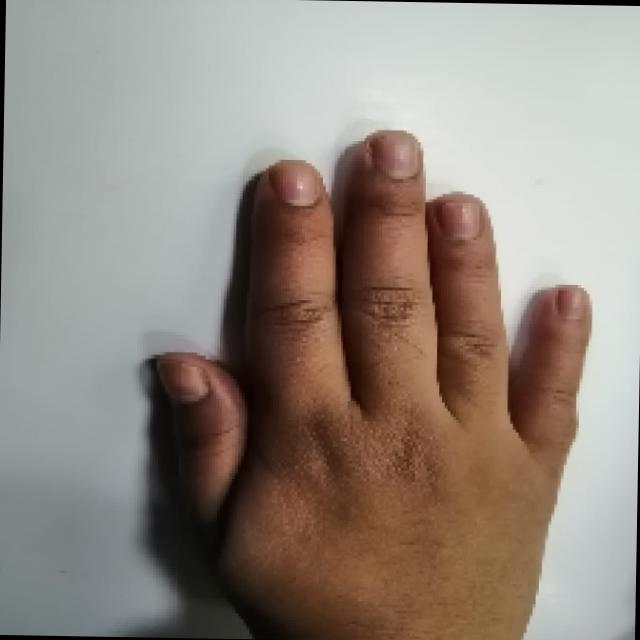Nail: (368, 130, 422, 179), (270, 159, 322, 206), (158, 359, 209, 402), (437, 200, 480, 239), (556, 285, 587, 319)
